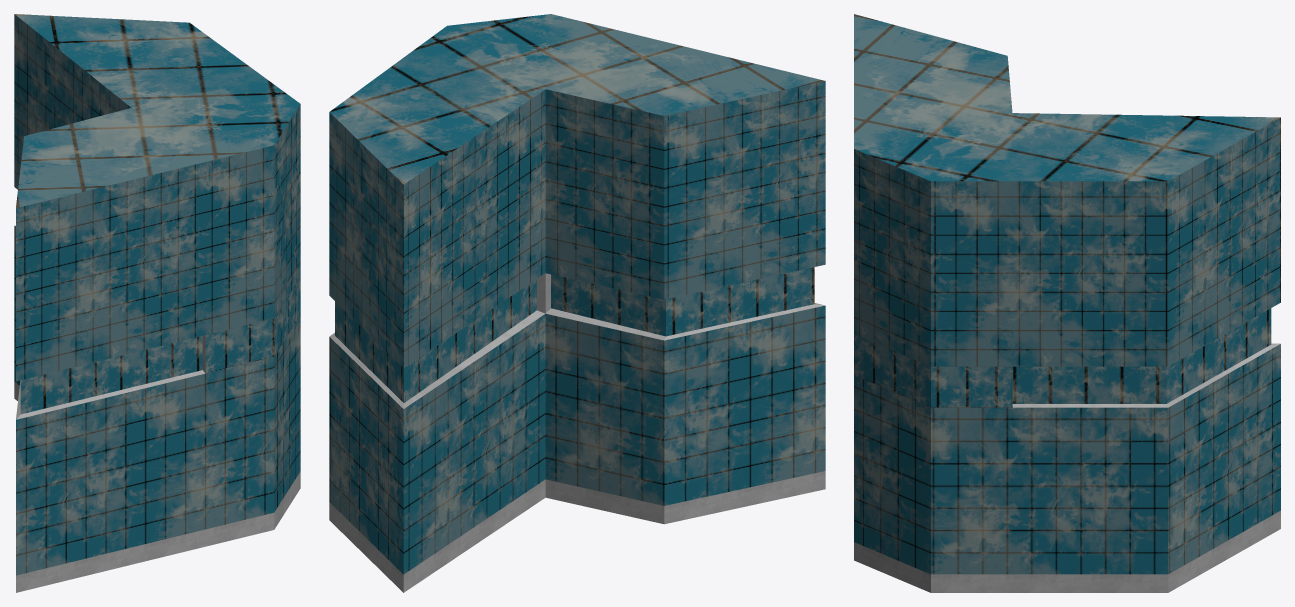
The model's file is SkyScraper_3.fbx.
3 views of the same model, side by side, from view 1: azimuth 30°, elevation 25°; view 2: azimuth 150°, elevation 25°; view 3: azimuth 270°, elevation 25° (orthographic). The views are drawn at different scales.
Visible parts, largest first — view 1: pCube2; view 2: pCube2; view 3: pCube2.
Boxes of the visible parts, <box> form: pCube2: <box>14,14,300,592</box>; pCube2: <box>329,14,825,592</box>; pCube2: <box>854,14,1280,592</box>.
Bounding box in the file's own units: 116 × 133 × 125.
